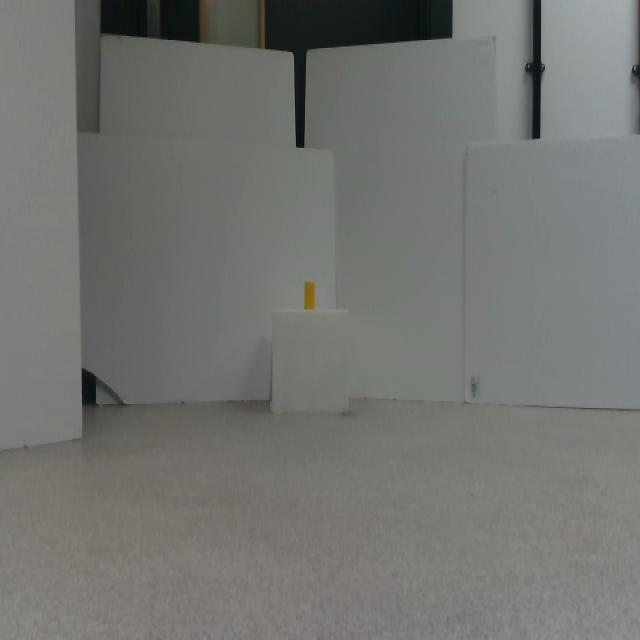yellow_cylinder: (304, 280, 315, 310)
